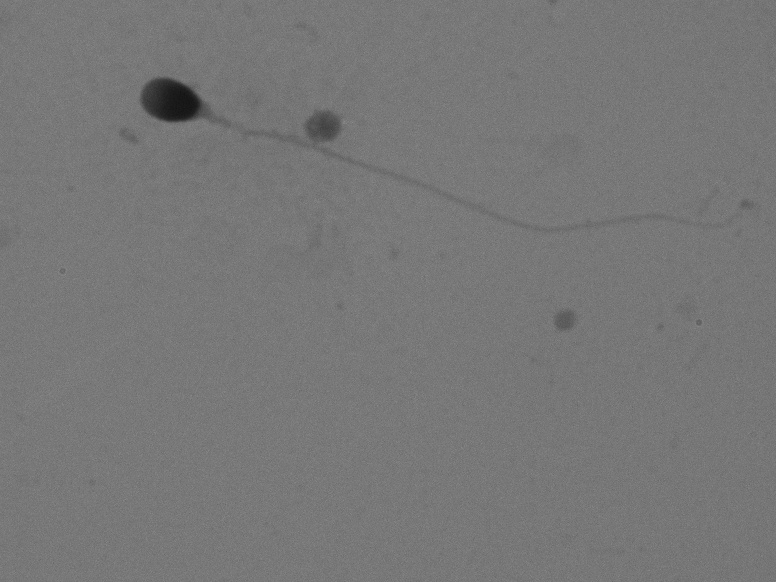Normal: (114, 67, 745, 267)
